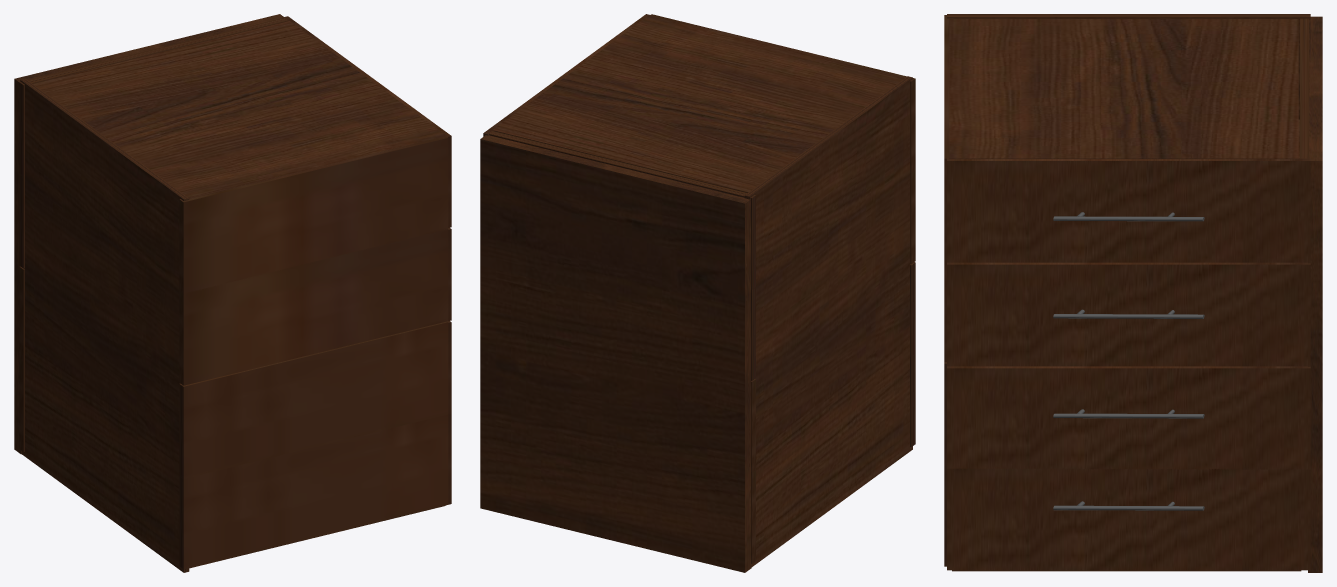
File: armariococina2.fbx
3 renders of one model, left to right at view 1: azimuth 30°, elevation 25°; view 2: azimuth 150°, elevation 25°; view 3: azimuth 270°, elevation 25°, orthographic. The views are drawn at different scales.
Visible parts, largest first — view 1: armarioCocina5; view 2: armarioCocina5; view 3: armarioCocina5.
Part boxes in pixels (x1,y1,x2,y2): armarioCocina5: (14,14,451,572); armarioCocina5: (480,14,915,572); armarioCocina5: (944,14,1322,572).
Bounding box in the file's own units: 1.14 × 1.44 × 1.19.
Materials: 2 (1 with a texture image).
